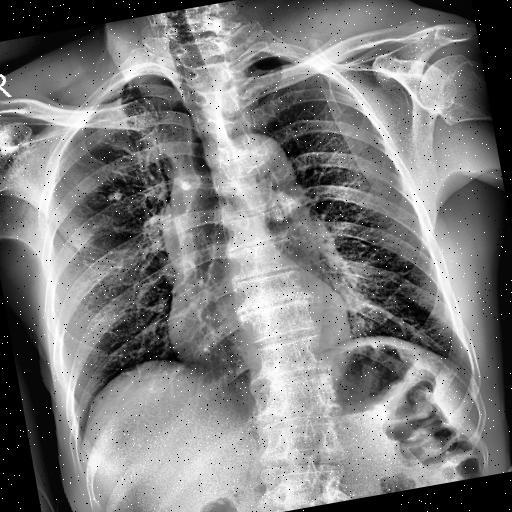0- Aortic enlargement: (148, 125, 314, 290), (209, 122, 301, 211)
11- Pleural thickening: (273, 44, 318, 77)
2- Calcification: (107, 190, 122, 201)
8- Nodule-Mass: (106, 189, 118, 201)
